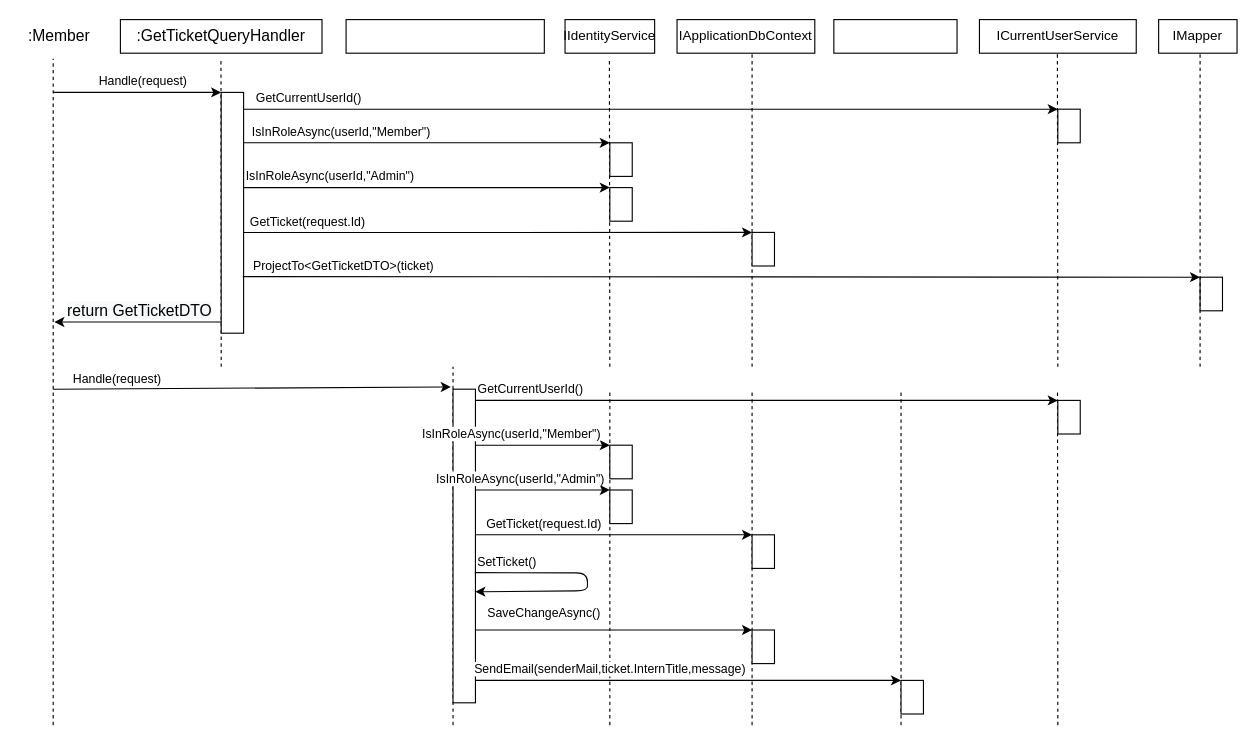
Image size: 1257x746. Some labels were removed from this diagram. Here are the shapes that lost their labels. From the top down, the box of each, then its label:
(345, 18, 544, 53): : ReplyTicketCommandHandler
(833, 18, 957, 53): IEmail
